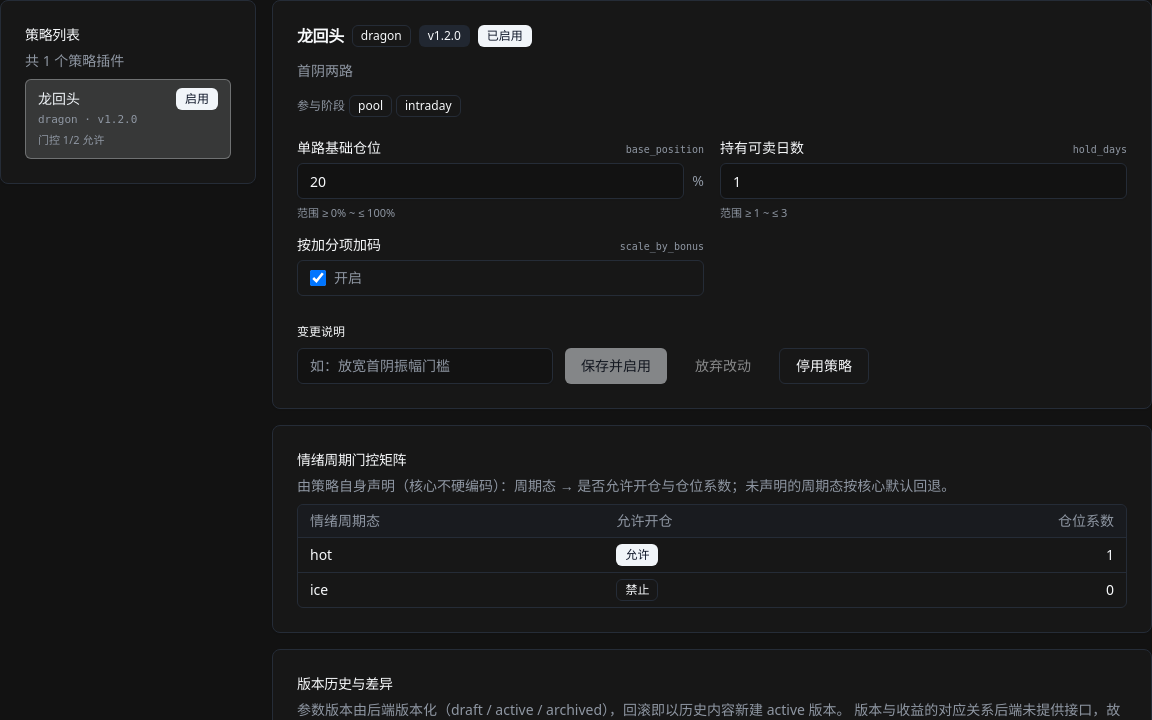
Test case: StrategiesPanel › min/max 校验未通过时阻断提交
Replace the text in the number field labelled "单路基础仓位" with "150" at (491, 181), box top-left (297, 163), bottom-right (684, 199)
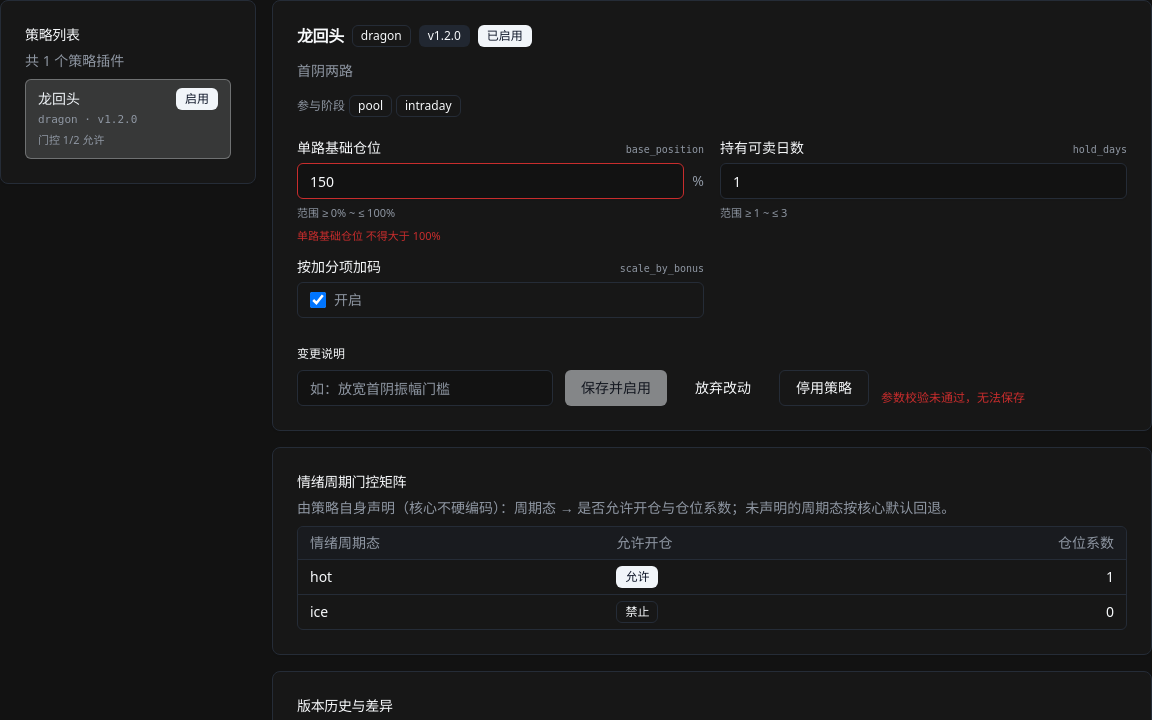
expect the button "保存并启用" is disabled: met, box top-left (565, 370), bottom-right (667, 406)
expect the text "单路基础仓位 不得大于 100%" is shown: met, box top-left (297, 228), bottom-right (441, 242)
